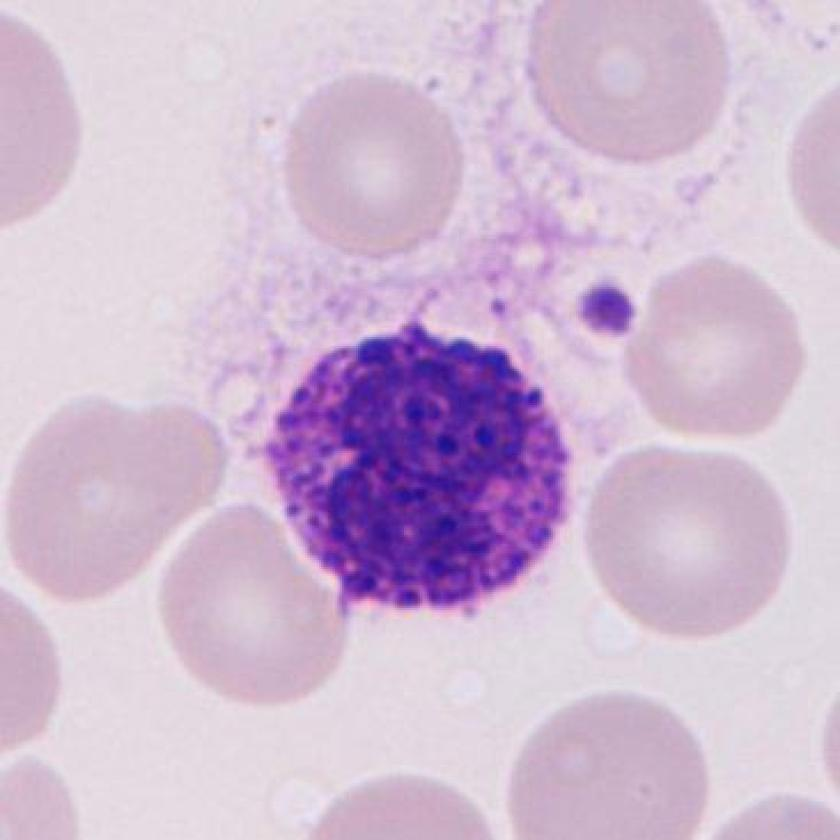basophil: (265, 309, 582, 621)
